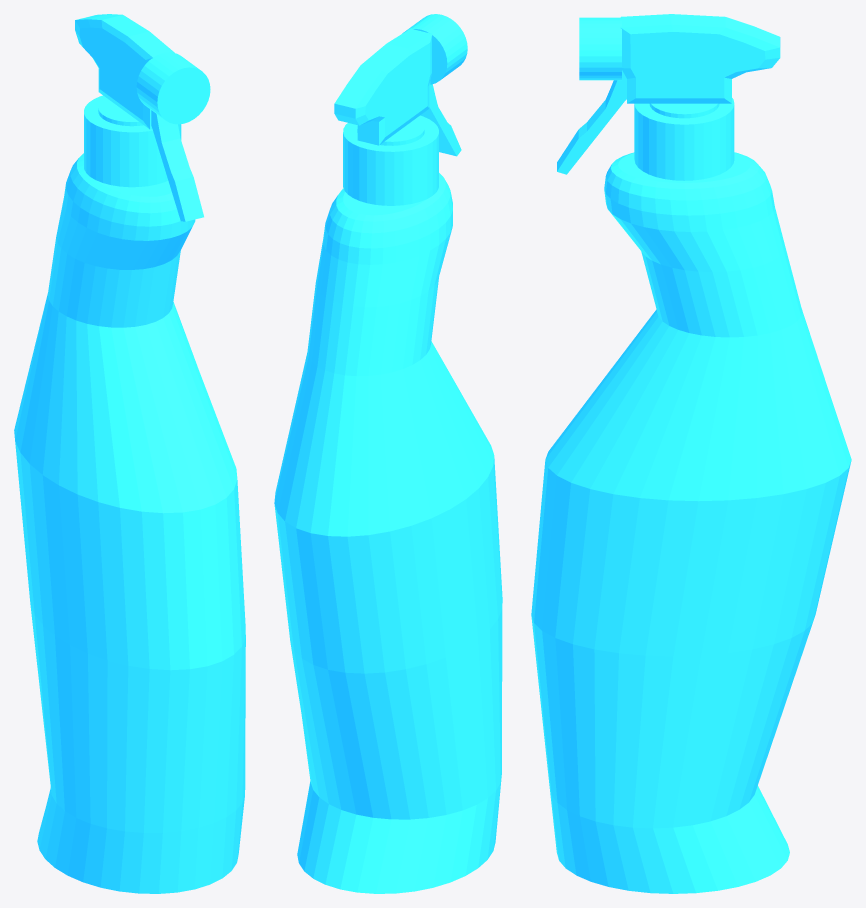
Rendered from higienizacao.glb.
3 views of the same model, side by side, from view 1: azimuth 30°, elevation 25°; view 2: azimuth 150°, elevation 25°; view 3: azimuth 270°, elevation 25° (orthographic). The views are drawn at different scales.
Parts seen in each view (by area): view 1: Cylinder, Cube, Cylinder.002, Cylinder.004, Cube.001, Cylinder.003; view 2: Cylinder, Cube, Cylinder.002, Cylinder.004, Cube.001, Cylinder.003; view 3: Cylinder, Cube, Cylinder.002, Cylinder.004, Cube.001, Cylinder.003.
Part boxes in pixels (left/top/right/bottom): Cylinder: left=14, top=153, right=245, bottom=893; Cube: left=75, top=14, right=174, bottom=129; Cylinder.002: left=84, top=95, right=181, bottom=187; Cylinder.004: left=136, top=52, right=210, bottom=124; Cube.001: left=151, top=110, right=203, bottom=221; Cylinder.003: left=98, top=98, right=143, bottom=126; Cylinder: left=274, top=173, right=502, bottom=893; Cube: left=334, top=28, right=432, bottom=145; Cylinder.002: left=343, top=115, right=438, bottom=205; Cylinder.004: left=402, top=14, right=467, bottom=84; Cube.001: left=420, top=81, right=461, bottom=156; Cylinder.003: left=357, top=118, right=424, bottom=145; Cylinder: left=531, top=152, right=851, bottom=893; Cube: left=620, top=14, right=780, bottom=103; Cylinder.002: left=634, top=98, right=734, bottom=180; Cylinder.004: left=579, top=17, right=621, bottom=80; Cube.001: left=557, top=70, right=626, bottom=174; Cylinder.003: left=649, top=103, right=719, bottom=118.
Size of the model in its own units: 1.68 by 7.88 by 2.75.
